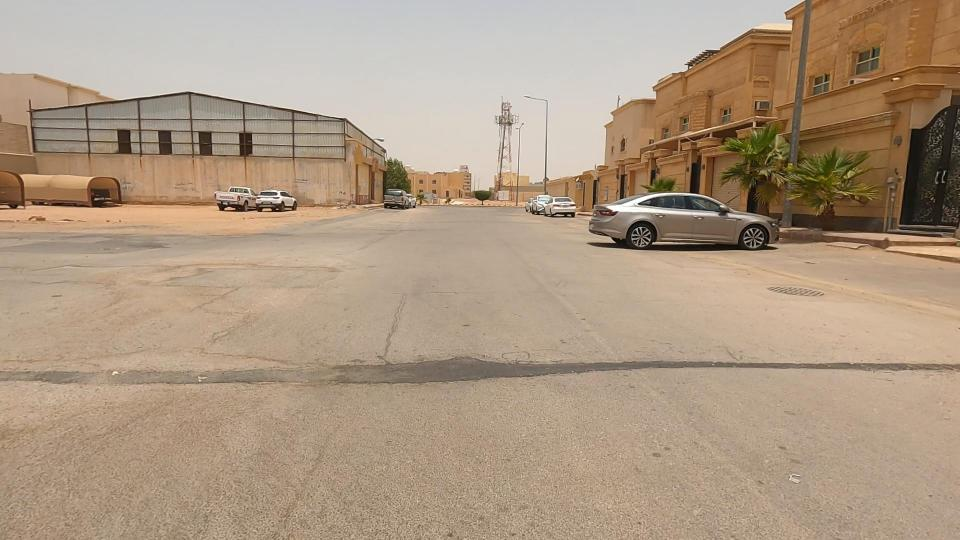POTHOLES: (354, 266, 701, 460), (146, 295, 487, 464)
